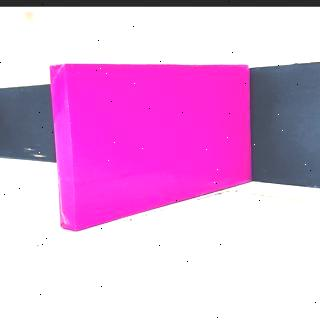xparking: (59, 68, 250, 199)
